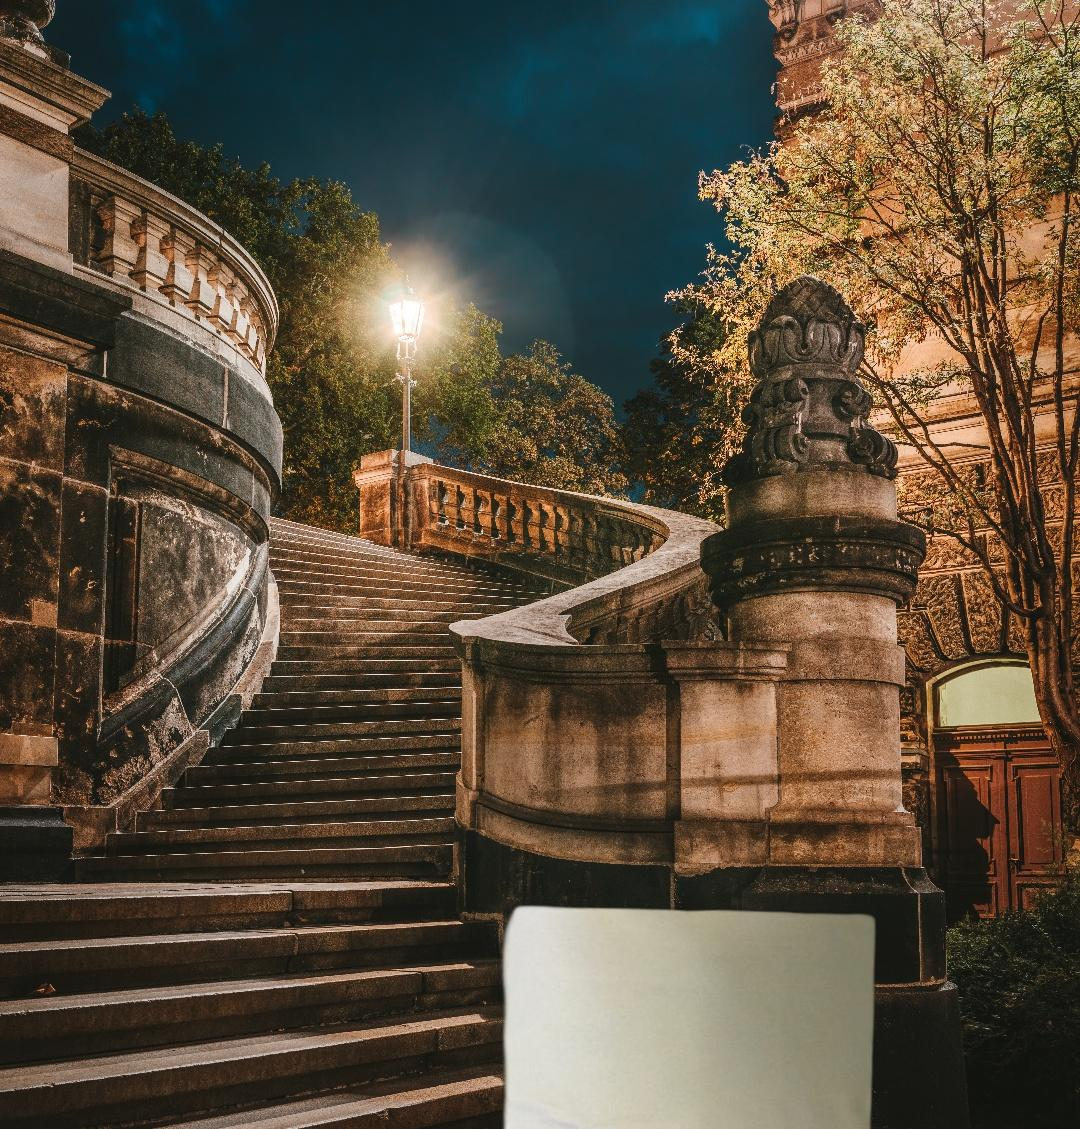paper: (495, 863, 880, 1129)
penholder: (861, 904, 1080, 1129)
